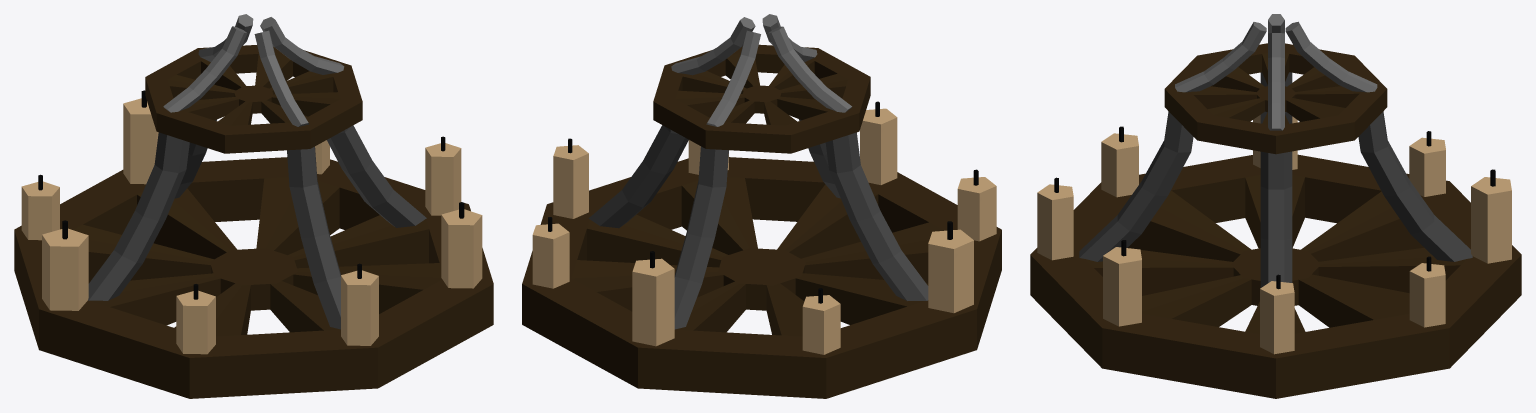
Rendered from Chandierel.fbx.
The picture shows the model from 3 angles, left to right: view 1: azimuth 30°, elevation 25°; view 2: azimuth 150°, elevation 25°; view 3: azimuth 270°, elevation 25°; orthographic projection.
Visible parts, largest first — view 1: Cylinder.005; view 2: Cylinder.005; view 3: Cylinder.005.
Part boxes in pixels (x1=…): Cylinder.005: x1=14, y1=14, x2=493, y2=398; Cylinder.005: x1=522, y1=14, x2=1001, y2=398; Cylinder.005: x1=1030, y1=14, x2=1521, y2=398.
Bounding box in the file's own units: 127 × 77.2 × 127.
Materials: 12 (12 with a texture image).
